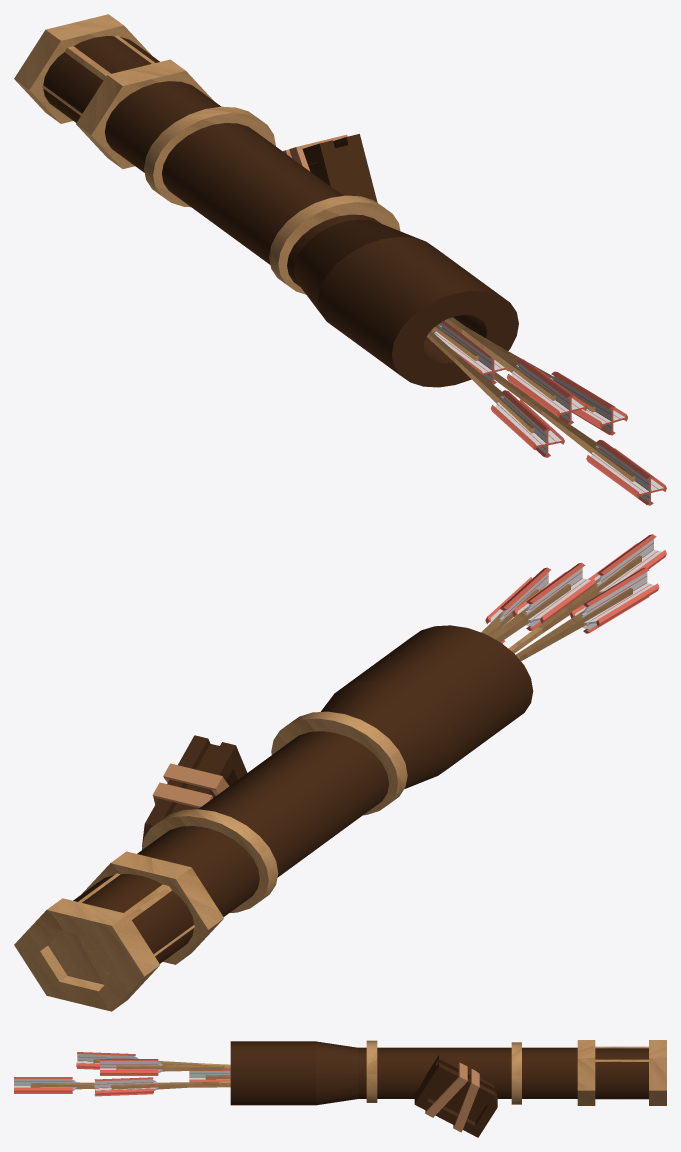
File: Quiver.obj
The picture shows the model from 3 angles, top to bottom: view 1: azimuth 30°, elevation 25°; view 2: azimuth 150°, elevation 25°; view 3: azimuth 270°, elevation 25°; orthographic projection. The views are drawn at different scales.
Visible parts, largest first — view 1: attachment_barrelEnd, fence_gardenRound%, clipBarrel_small, attachment_barrelThin, tree_branchLong, clip_tape; view 2: attachment_barrelEnd, clipBarrel_small, attachment_barrelThin, fence_gardenRound%, clip_tape, tree_branchLong; view 3: attachment_barrelEnd, clip_tape, fence_gardenRound%, clipBarrel_small, tree_branchLong, attachment_barrelThin.
Part boxes in pixels (<box>): attachment_barrelEnd: <box>43,36,518,387</box>; fence_gardenRound%: <box>431,321,666,505</box>; clipBarrel_small: <box>14,14,214,168</box>; attachment_barrelThin: <box>144,106,400,294</box>; tree_branchLong: <box>427,317,634,481</box>; clip_tape: <box>283,134,377,202</box>; attachment_barrelEnd: <box>73,625,533,963</box>; clipBarrel_small: <box>14,851,223,1011</box>; attachment_barrelThin: <box>142,711,407,912</box>; fence_gardenRound%: <box>485,534,666,643</box>; clip_tape: <box>142,735,247,846</box>; tree_branchLong: <box>481,555,641,661</box>; attachment_barrelEnd: <box>230,1041,648,1105</box>; clip_tape: <box>414,1055,497,1137</box>; fence_gardenRound%: <box>14,1052,230,1096</box>; clipBarrel_small: <box>577,1040,666,1105</box>; tree_branchLong: <box>30,1058,230,1089</box>; attachment_barrelThin: <box>366,1040,521,1104</box>.
Size of the model in its own units: 0.5756 by 0.4417 by 3.65.
6 materials, 2 textured.
